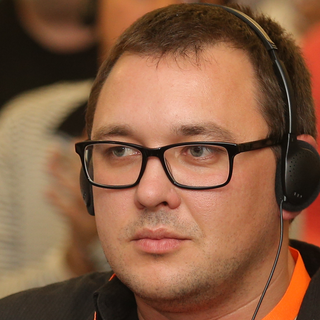eye: (96, 135, 145, 164), (176, 138, 225, 165)
